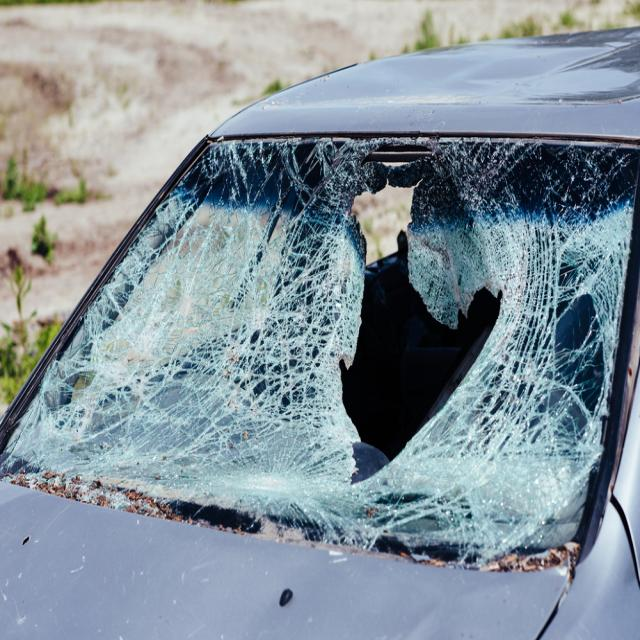Windshield: (164, 134, 625, 545)
